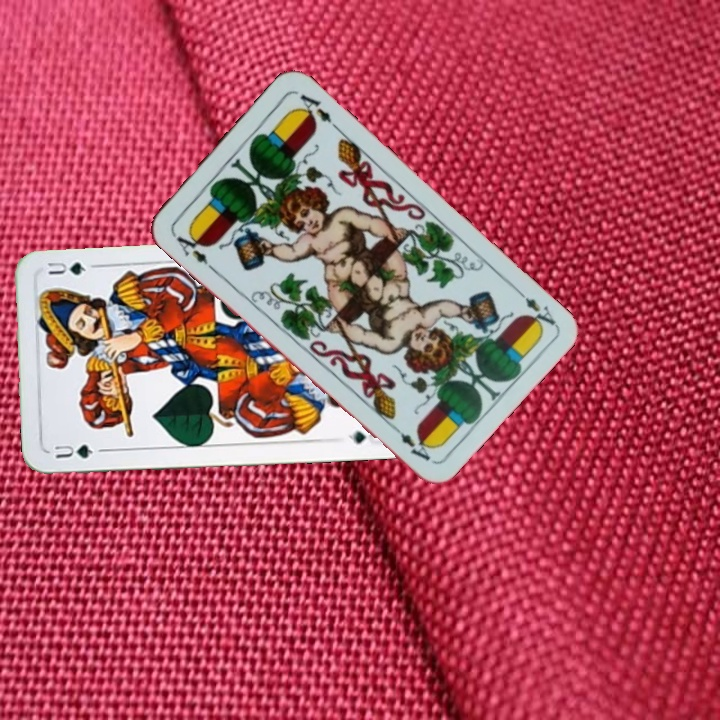EA: (510, 283, 558, 333), (168, 227, 216, 273)
GU: (50, 440, 96, 461)
